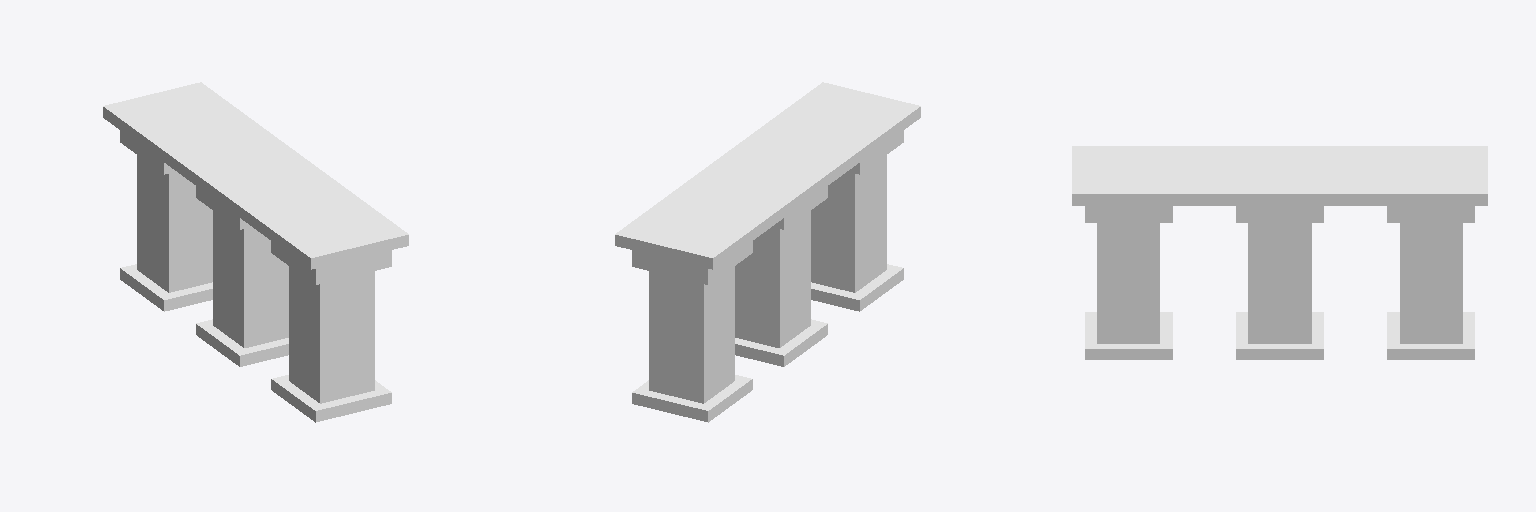
Rendered from BridgePillar.obj.
3 renders of one model, left to right at view 1: azimuth 30°, elevation 25°; view 2: azimuth 150°, elevation 25°; view 3: azimuth 270°, elevation 25°, orthographic.
Size of the model in its own units: 9 by 15 by 33.